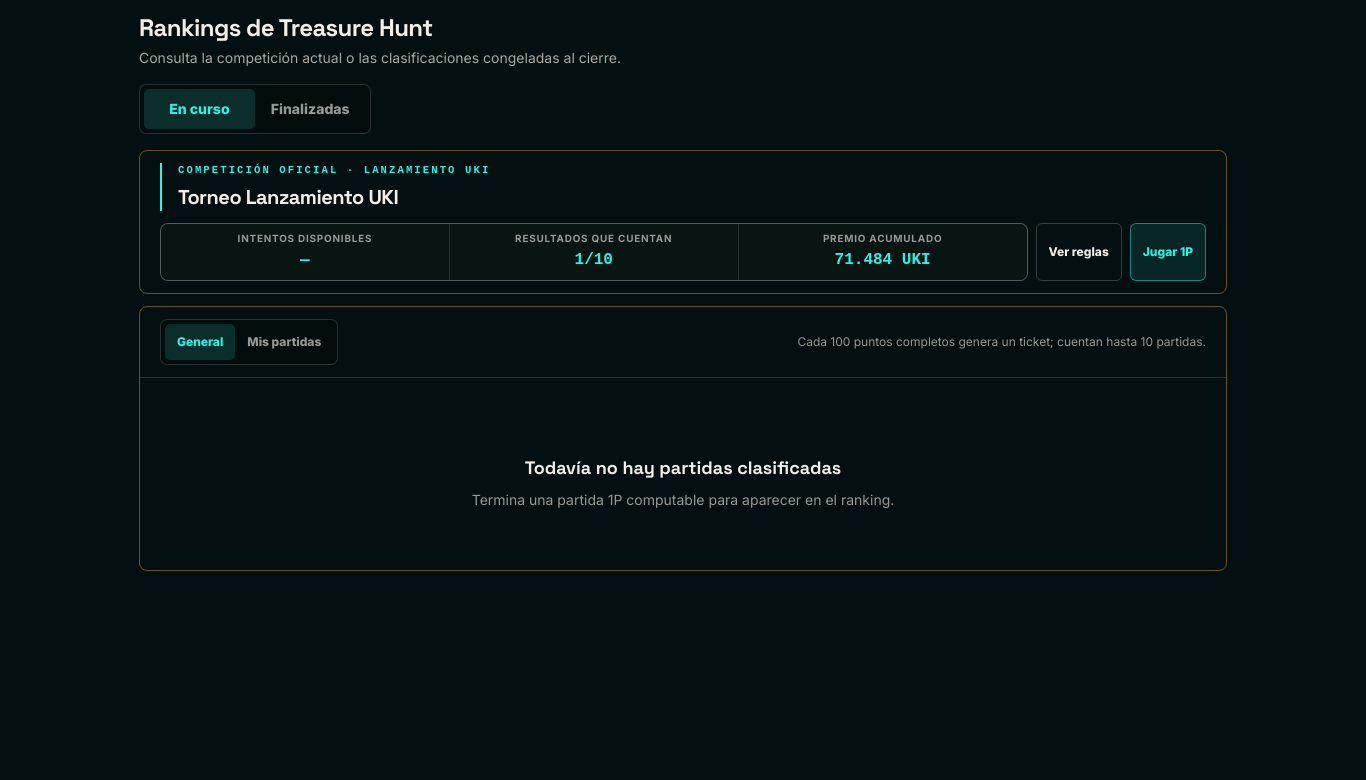
Test: histórico de Rankings de Treasure Hunt › muestra una edición válida sin entradas
Step 1. Click the button "Finalizadas" → x=310, y=109, box [255, 89, 366, 129]
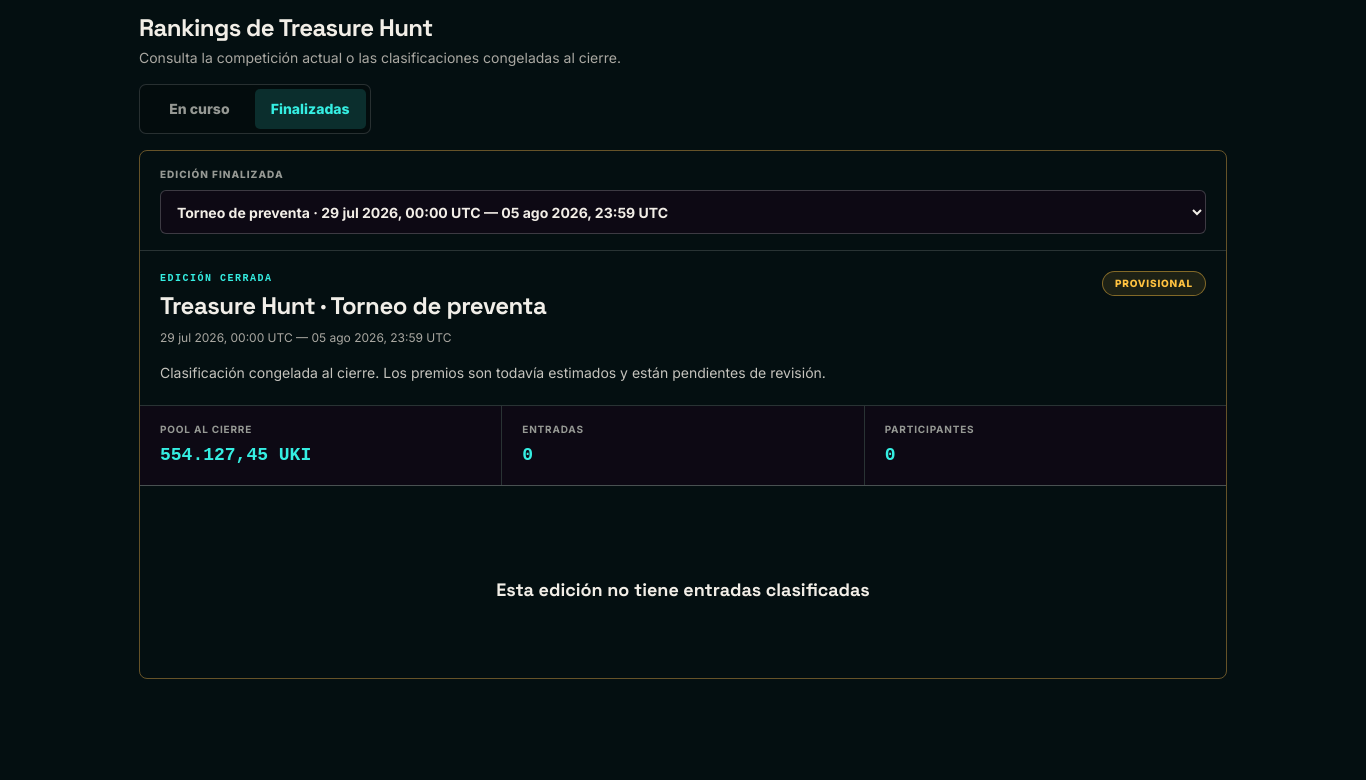
expect the heading "Esta edición no tiene entradas clasificadas" is shown: met, box [496, 576, 870, 604]
